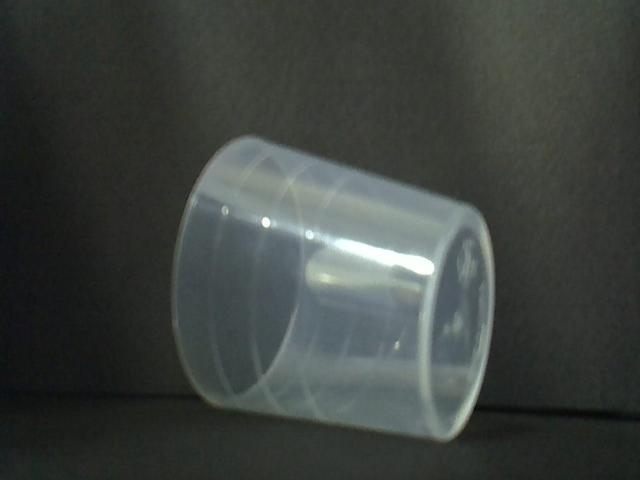cup: (167, 129, 500, 446)
